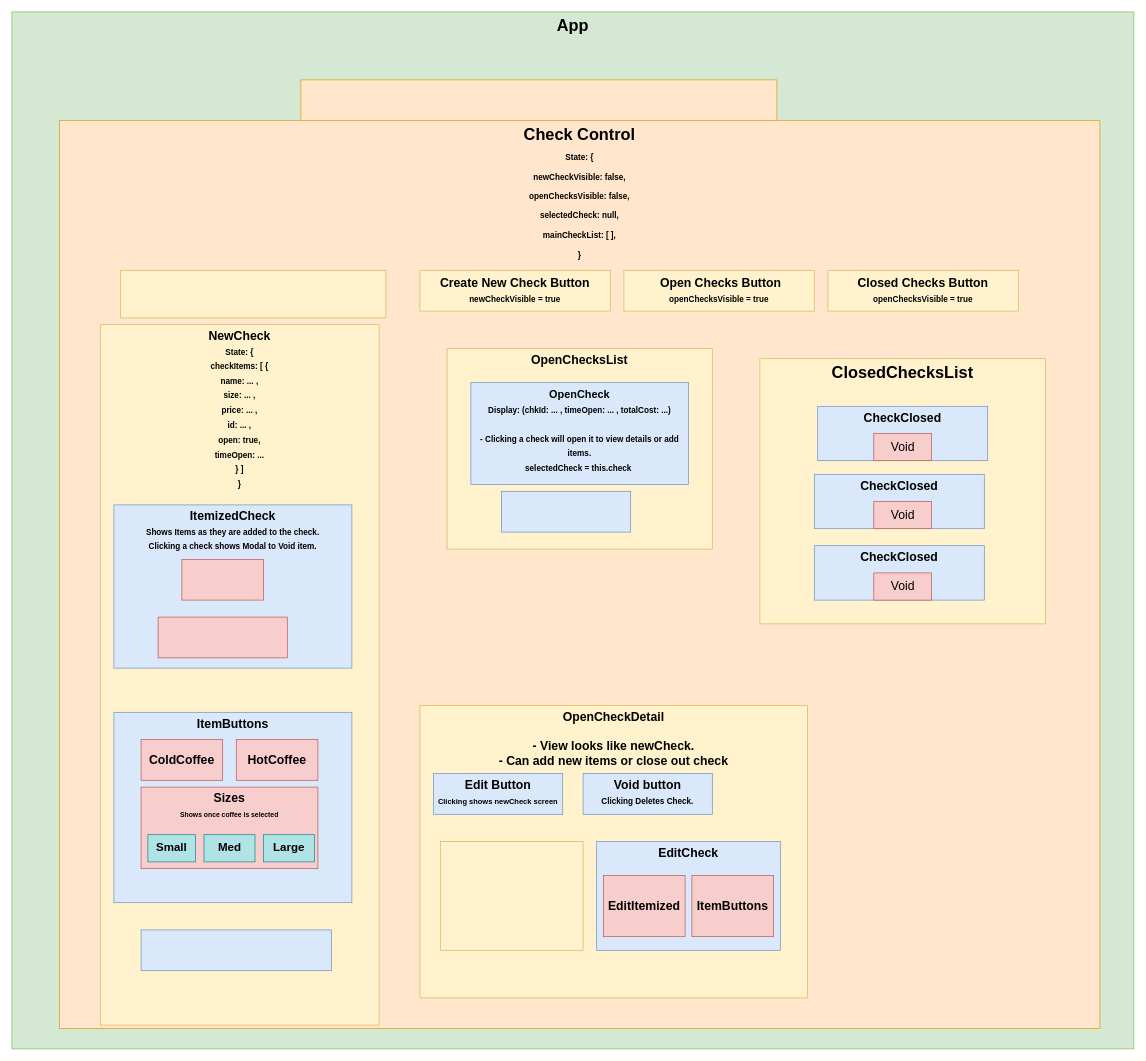
This 1146x1061 diagram has some shape labels left out. Here are the shapes that lost their labels. From the top down, the centre of each, then its label:
pixel 538 103: Header
pixel 253 294: HomeView Default View
pixel 566 511: OpenCheck
pixel 222 579: Void Modal
pixel 222 637: TotalPrice
pixel 511 895: Pay Check Form Clicking Close Check button sends check to closed checks list
pixel 236 950: Send Order
